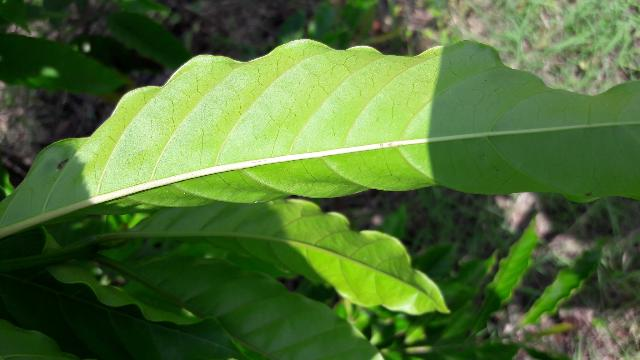rust_level_1: (0, 39, 640, 233)
